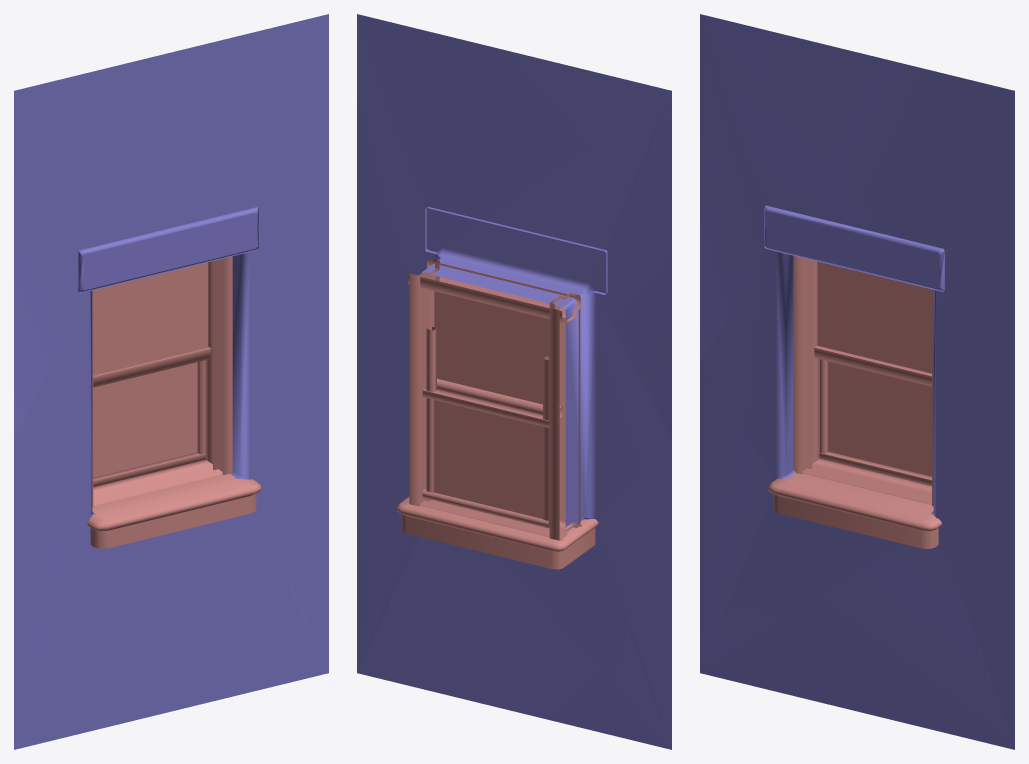
Rendered from window_04_small.fbx.
3 views of the same model, side by side, from view 1: azimuth 30°, elevation 25°; view 2: azimuth 150°, elevation 25°; view 3: azimuth 330°, elevation 25° (orthographic).
Parts seen in each view (by area): view 1: Plane.033, Plane.032; view 2: Plane.033, Plane.032; view 3: Plane.033, Plane.032.
Part boxes in pixels (box(x1,y1,x2,y2)): Plane.033: box(14, 14, 328, 749); Plane.032: box(87, 256, 260, 548); Plane.033: box(357, 14, 671, 749); Plane.032: box(396, 258, 598, 569); Plane.033: box(700, 14, 1014, 749); Plane.032: box(768, 255, 941, 548).
Bounding box in the file's own units: 2 × 4 × 0.5096.
